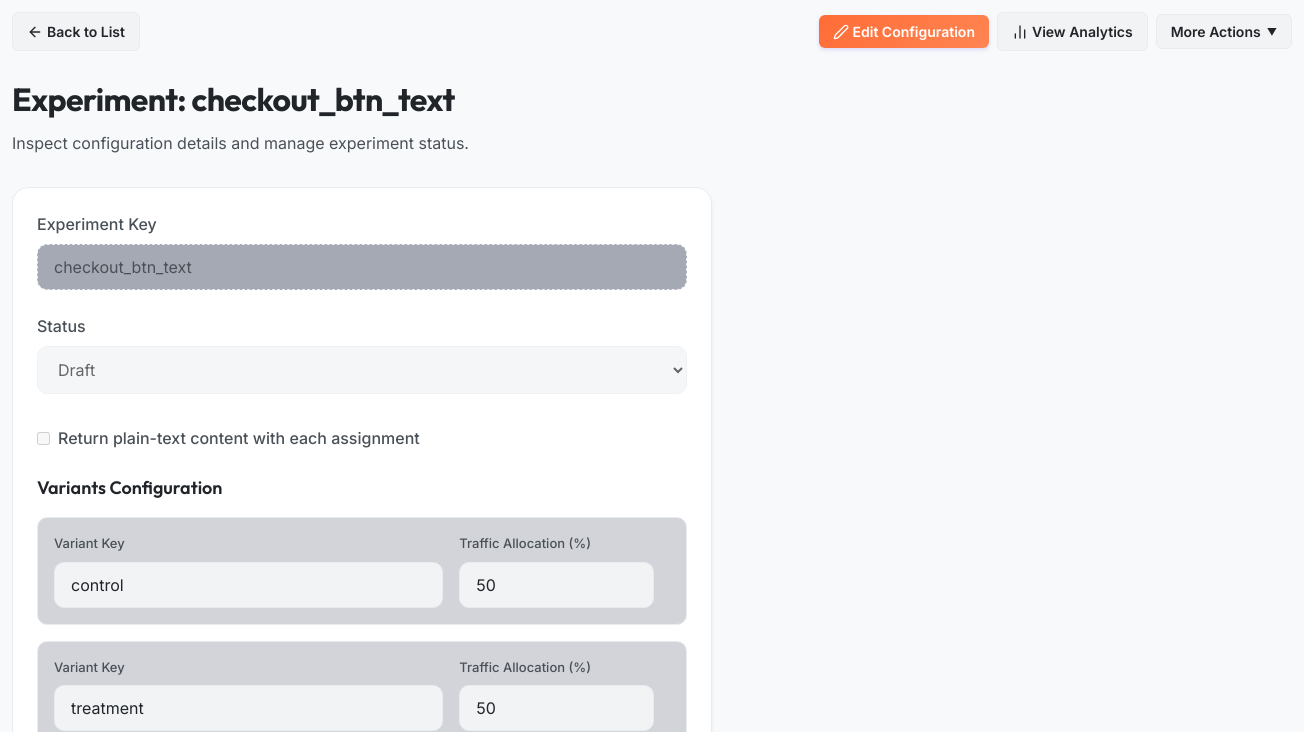
Test: Experiment Detail / Edit Page › should display Activate button when experiment is draft
expect the heading "Experiment: checkout_btn_text" is shown: met, box x1=12 y1=79 x2=455 y2=119
Click dropdown toggle
Step 1. Click the button with test id "actions-dropdown-toggle" → (1224, 32), box x1=1156 y1=14 x2=1292 y2=49
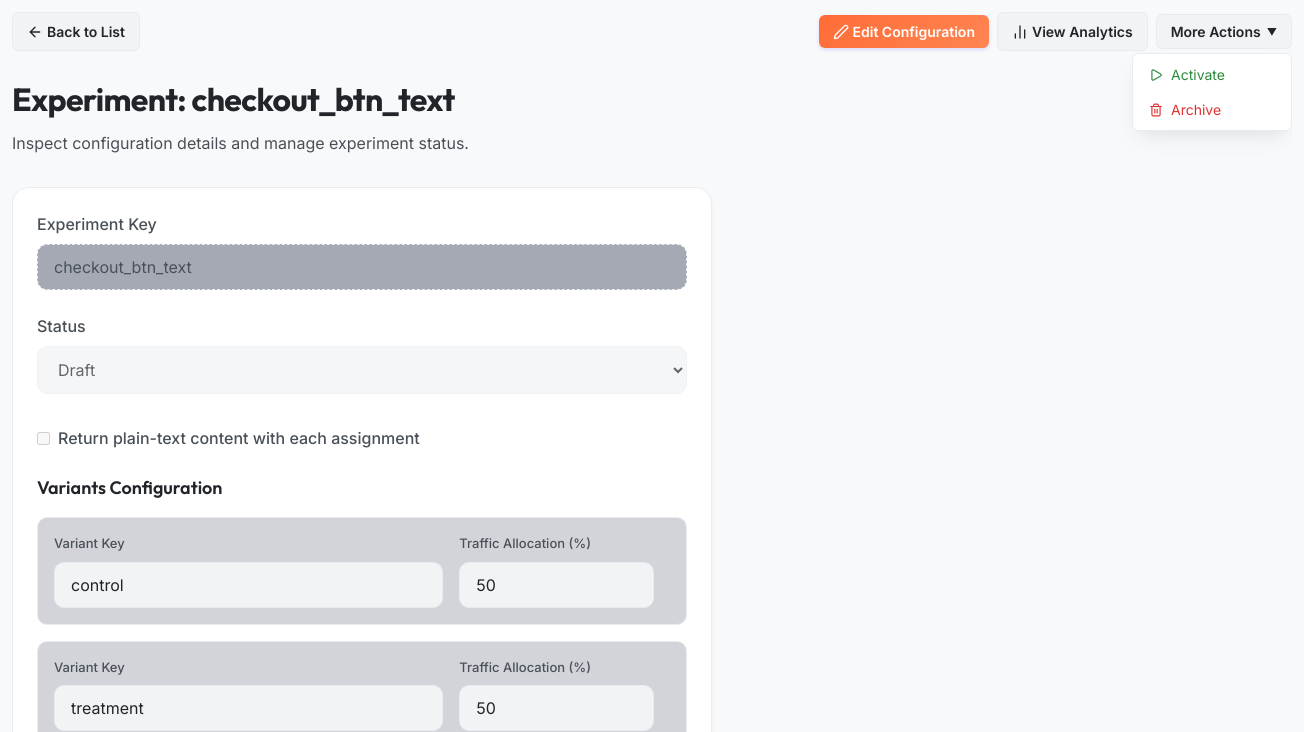
expect the button with test id "activate-btn" is shown: met, box x1=1137 y1=58 x2=1287 y2=91
